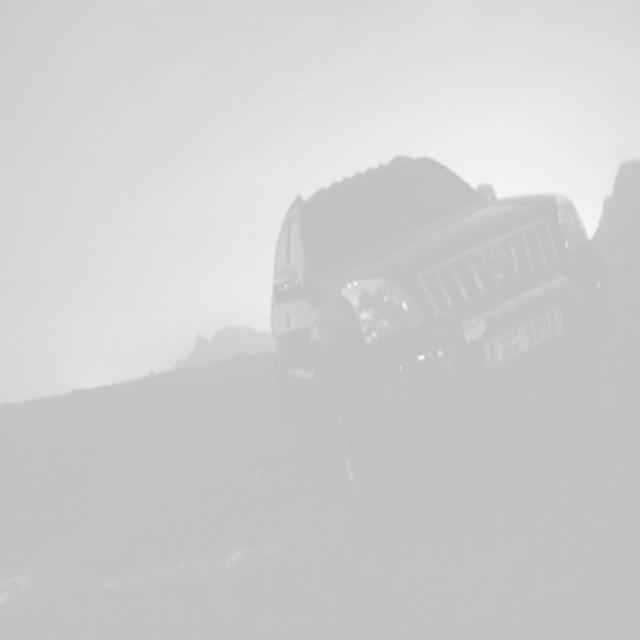Car: (266, 152, 616, 494)
